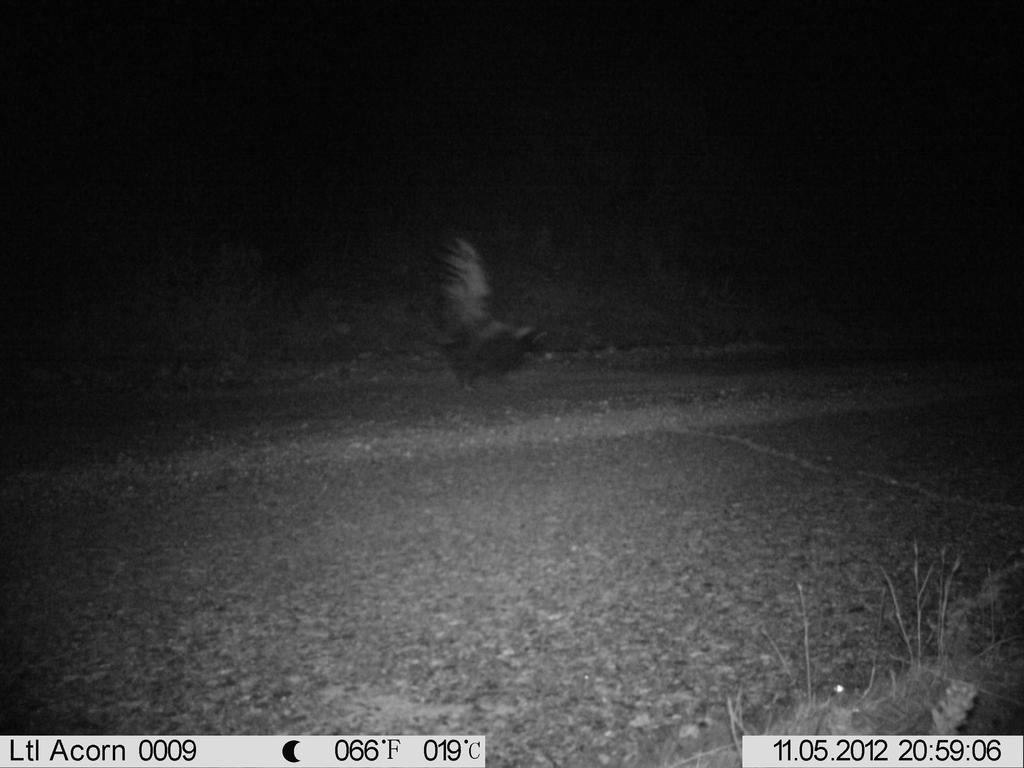skunk: (411, 215, 569, 415)
